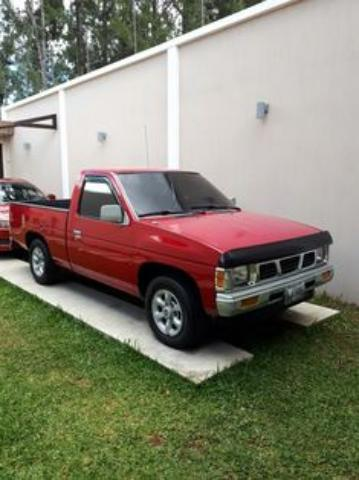pickup-truck: (8, 168, 336, 350)
